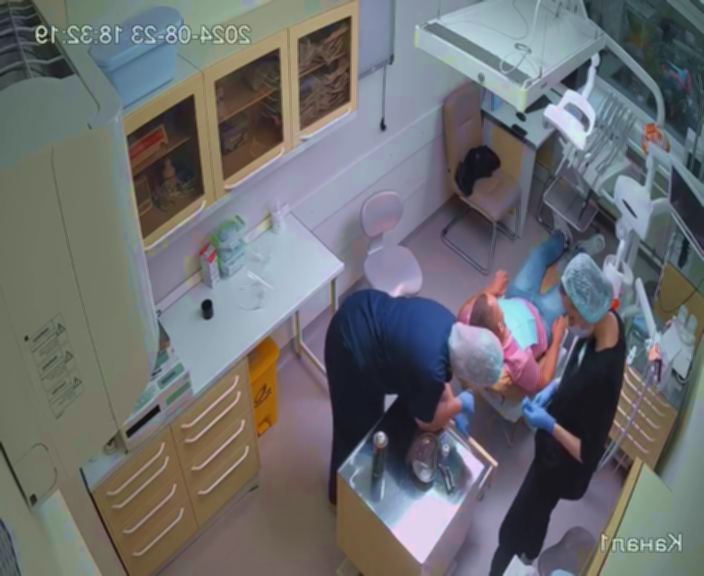Patient: (455, 230, 609, 423)
